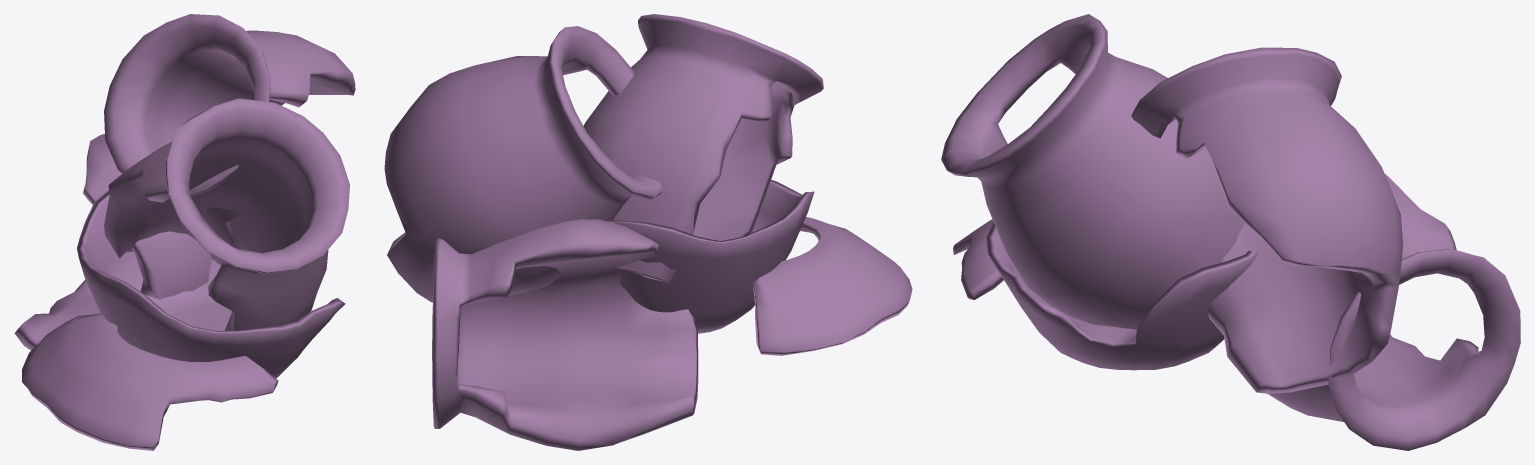
Rendered from Beam_Structure_18C_Lod0.fbx.
3 renders of one model, left to right at view 1: azimuth 30°, elevation 25°; view 2: azimuth 150°, elevation 25°; view 3: azimuth 270°, elevation 25°, orthographic. The views are drawn at different scales.
Parts seen in each view (by area): view 1: Beam_Structure_18C_Lod0; view 2: Beam_Structure_18C_Lod0; view 3: Beam_Structure_18C_Lod0.
Boxes of the visible parts, bbox=[...] form: Beam_Structure_18C_Lod0: bbox=[14, 14, 355, 450]; Beam_Structure_18C_Lod0: bbox=[384, 14, 912, 450]; Beam_Structure_18C_Lod0: bbox=[941, 14, 1520, 450].
Size of the model in its own units: 86.49 by 73.22 by 97.28.
